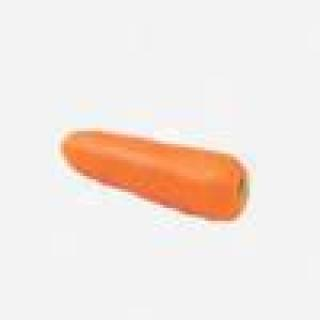Wortel: (40, 116, 277, 238)
